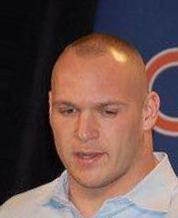face: (55, 99, 122, 166)
